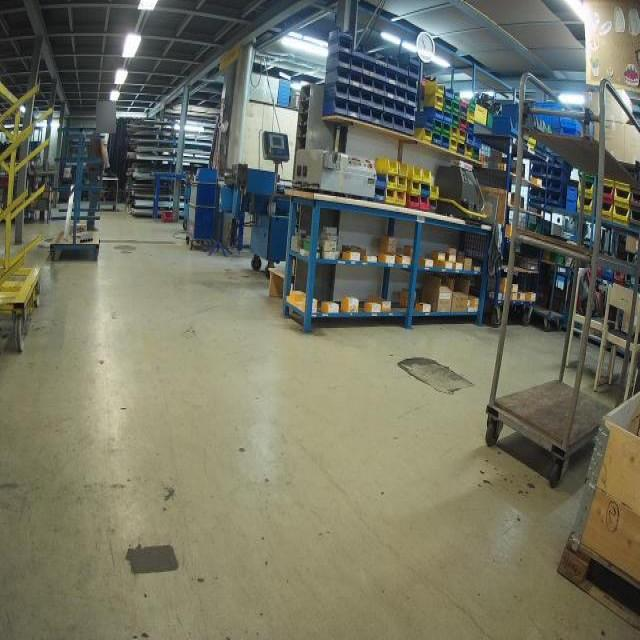pallet: (551, 528, 640, 632)
